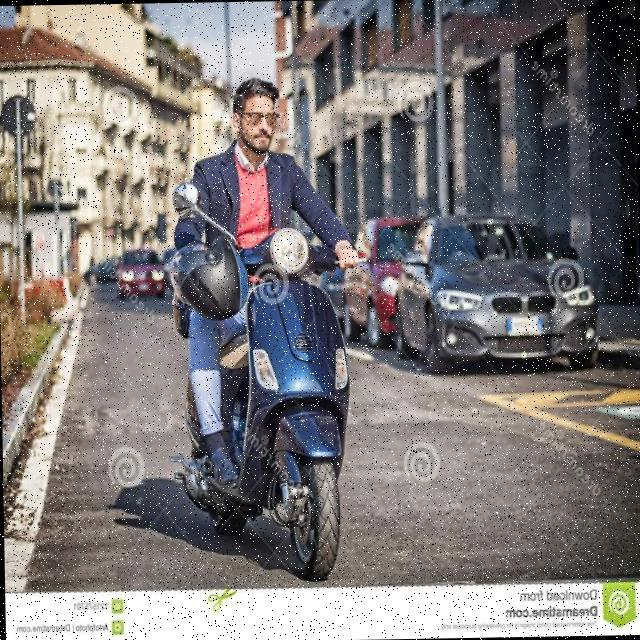No helmet: (221, 78, 286, 166)
